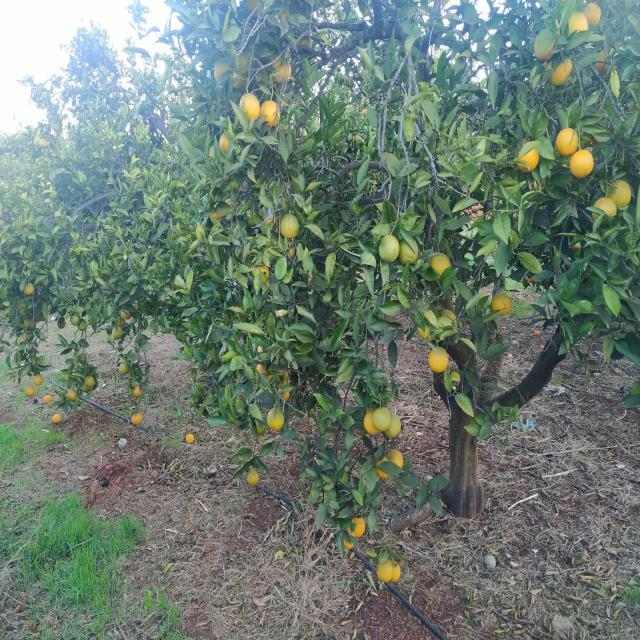Jeruk Belum Matang: (214, 45, 252, 90), (544, 50, 572, 86), (515, 138, 540, 172), (267, 52, 293, 84), (592, 197, 618, 229), (570, 148, 595, 180), (565, 11, 589, 44), (596, 46, 619, 78), (256, 100, 282, 128), (556, 126, 580, 156), (430, 252, 452, 284), (240, 91, 260, 125), (608, 180, 632, 208), (535, 31, 557, 61), (378, 234, 400, 264), (413, 316, 438, 342), (428, 346, 451, 374), (580, 1, 602, 29), (440, 306, 460, 336), (398, 238, 419, 266), (280, 212, 300, 240), (246, 0, 275, 19), (276, 0, 300, 22), (527, 169, 548, 194), (492, 291, 512, 317), (372, 407, 392, 432), (210, 142, 228, 168), (384, 412, 402, 438), (363, 409, 380, 436), (219, 128, 238, 152), (338, 525, 356, 550), (376, 558, 394, 582), (385, 450, 404, 472), (268, 406, 284, 431), (348, 517, 367, 538), (415, 295, 433, 316), (253, 263, 270, 285), (246, 205, 262, 228), (296, 34, 314, 54), (376, 456, 390, 480), (280, 238, 296, 258), (280, 382, 296, 402), (209, 201, 224, 221), (265, 372, 281, 390), (388, 560, 401, 582), (255, 362, 269, 382), (253, 417, 267, 436), (247, 467, 260, 486), (351, 128, 364, 146), (256, 342, 270, 358), (281, 364, 293, 382), (22, 282, 36, 296), (134, 179, 147, 193), (112, 326, 124, 340), (84, 375, 96, 387), (118, 362, 130, 374), (115, 317, 126, 330), (132, 413, 142, 426), (132, 385, 142, 398), (122, 307, 132, 320), (170, 277, 180, 290), (68, 389, 78, 401), (186, 432, 196, 444), (77, 318, 86, 331), (71, 314, 80, 326), (25, 385, 34, 397), (34, 376, 44, 386), (80, 383, 90, 393), (52, 414, 62, 424), (50, 190, 59, 200), (22, 332, 30, 342), (58, 320, 66, 330), (44, 394, 52, 404)
